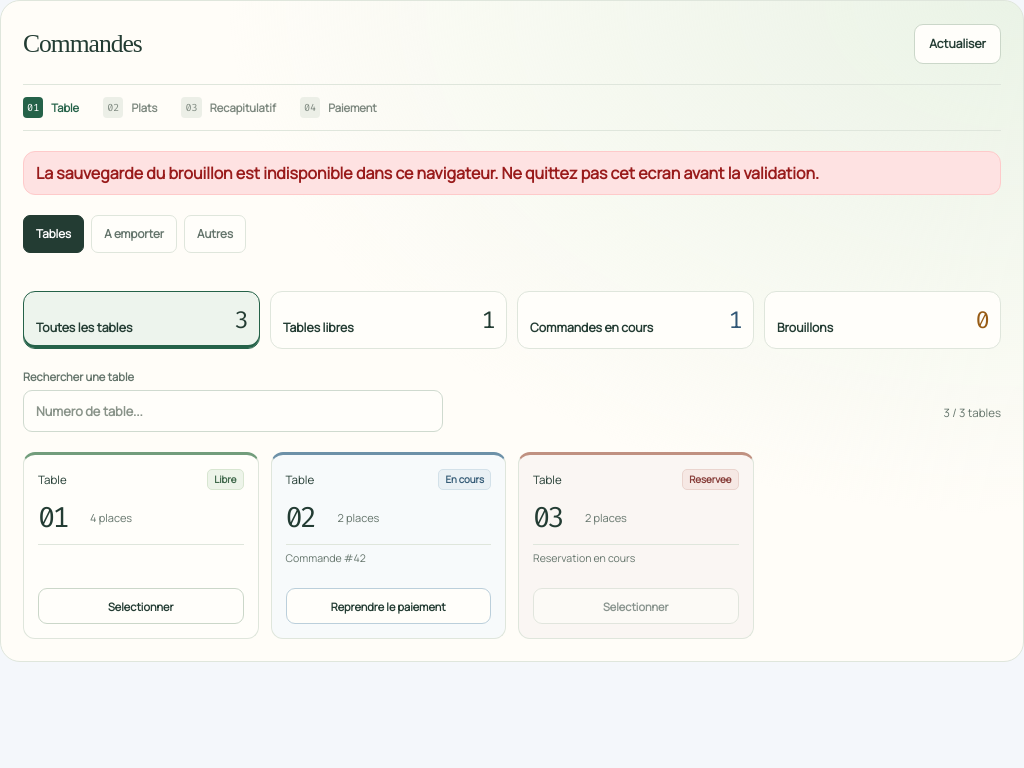
Scenario: warns when session storage is unavailable without crashing
Click the button with aria-label "Selectionner la table 1" at (141, 606), box [38,588,244,624]
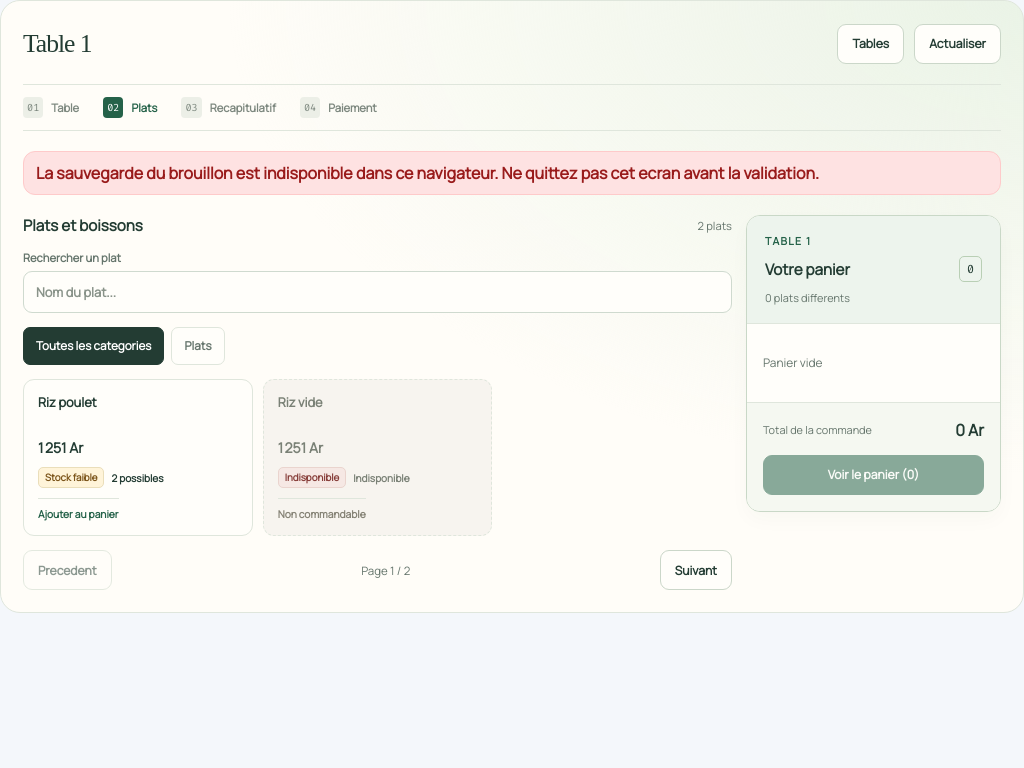
expect the message shows "sauvegarde du brouillon est indisponible": met, box [36,162,819,184]
Click the button with aria-label "Ajouter Riz poulet" at (138, 458), box [23,379,253,536]
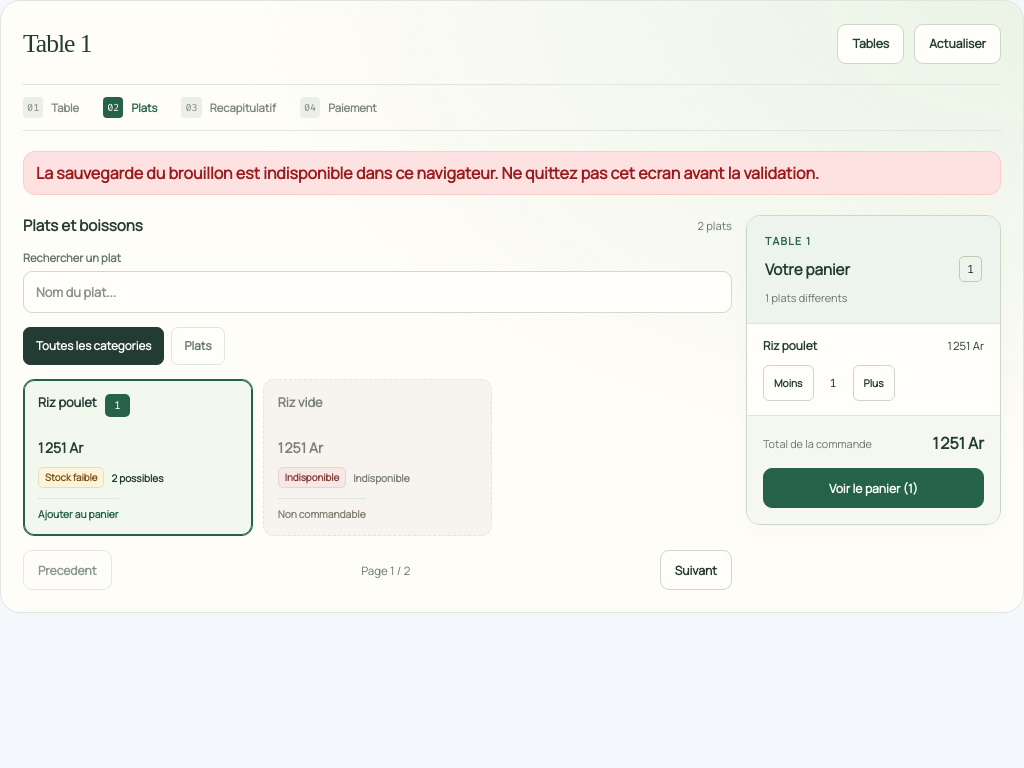
Click the button "Voir le panier (1)" at (874, 488), box [763,468,984,508]
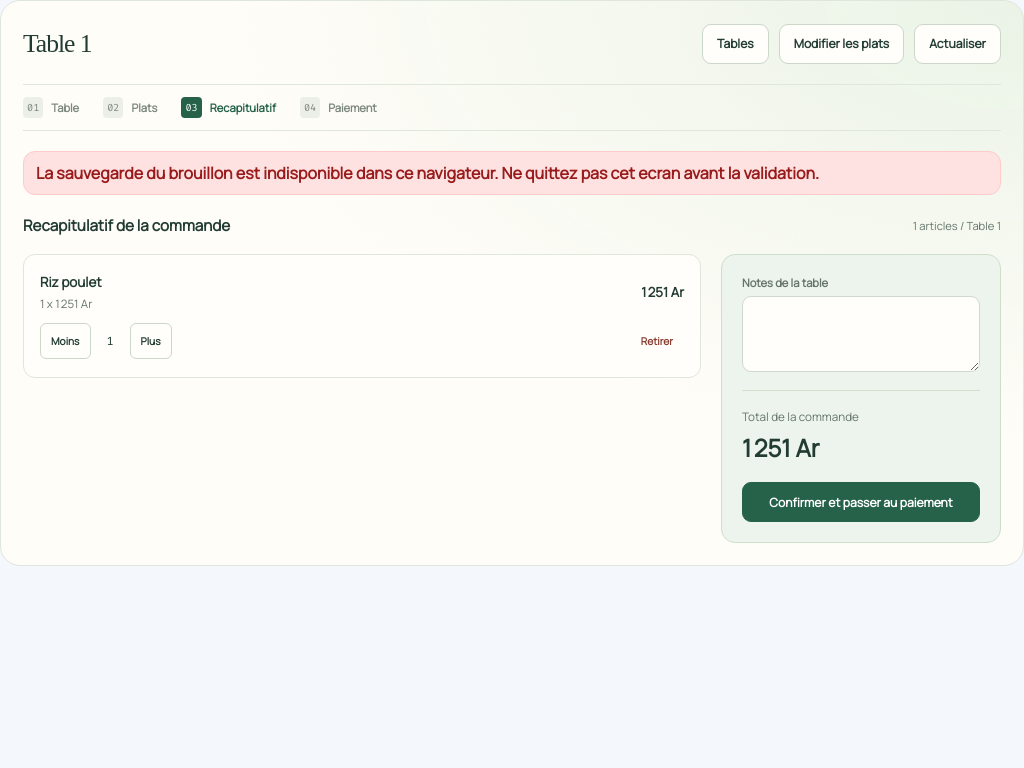
expect the button "Confirmer et passer au paiement" is enabled: met, box [742,482,980,522]
